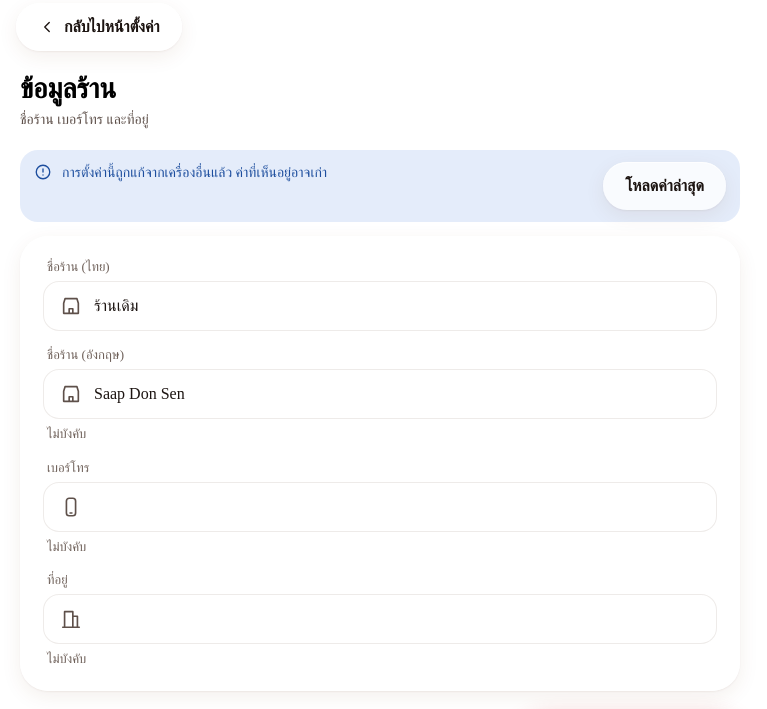
Test: shop details › a newer version from another device is announced, and loaded only when the person chooses
The width and height of the screenshot is (767, 709).
Check: the text "การตั้งค่านี้ถูกแก้จากเครื่องอื่นแล้ว ค่าที่เห็นอยู่อาจเก่า" is shown, box x1=62 y1=165 x2=327 y2=180
Check: the field showing "ร้านเดิม" is shown, box x1=92 y1=296 x2=700 y2=316
Click the button "โหลดค่าล่าสุด" at (665, 186), box x1=603 y1=162 x2=726 y2=210
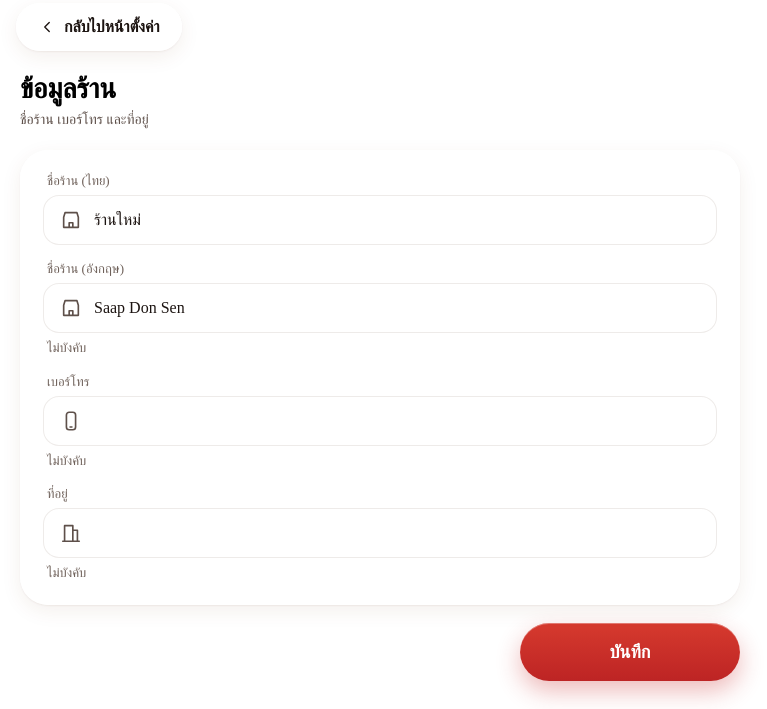
Check: the field showing "ร้านใหม่" is shown, box x1=92 y1=210 x2=700 y2=230
Check: the text "การตั้งค่านี้ถูกแก้จากเครื่องอื่นแล้ว ค่าที่เห็นอยู่อาจเก่า" is gone
